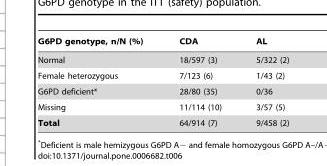table: (37, 36, 288, 127)
table column: (37, 36, 160, 127), (160, 36, 238, 127), (238, 36, 288, 127)
table column header: (37, 36, 288, 50)
table row: (37, 50, 288, 67), (37, 67, 288, 83), (37, 83, 288, 99), (37, 99, 288, 114), (37, 36, 288, 50), (37, 114, 288, 127)
